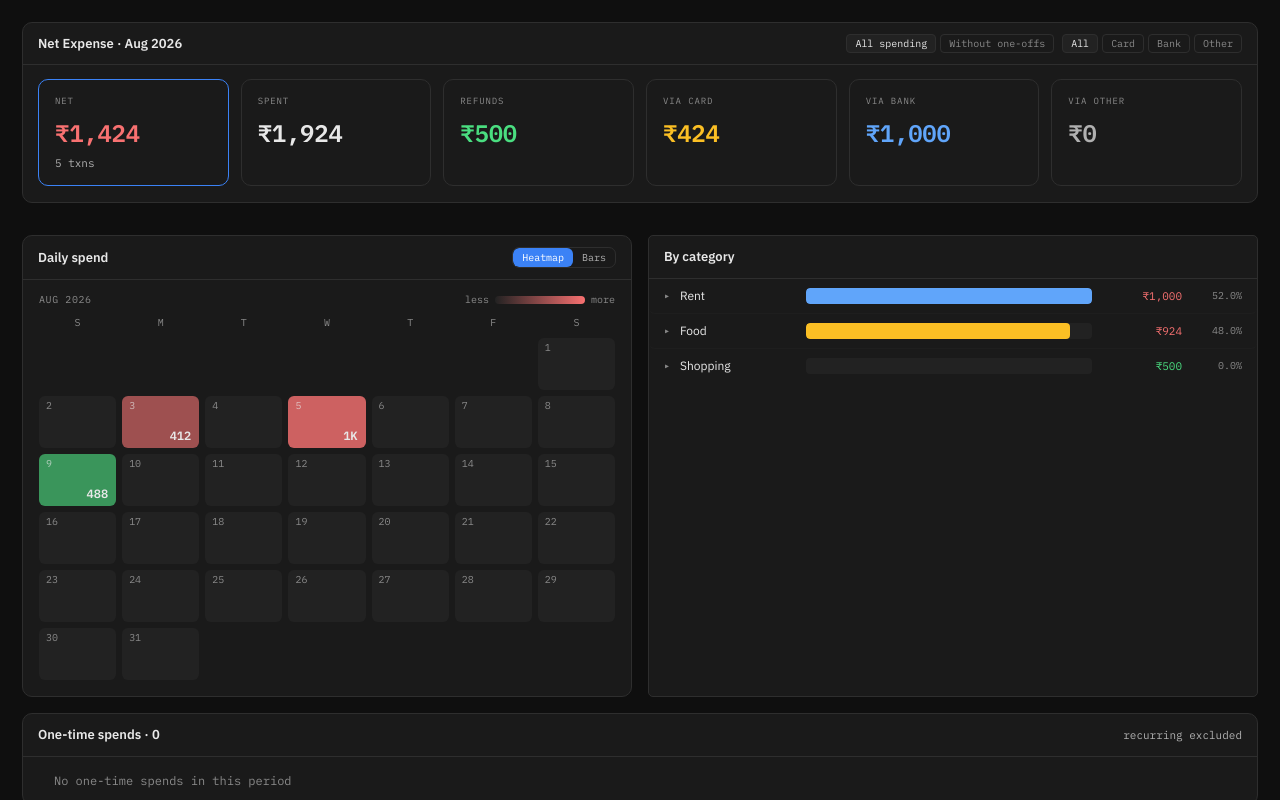
ExpenseOverview › the category hover lists top merchants, not just the name
Expected: the text "Food" is shown, [680,323,707,338]
Hover over the text "Food" at (685, 330), box [664,323,707,338]
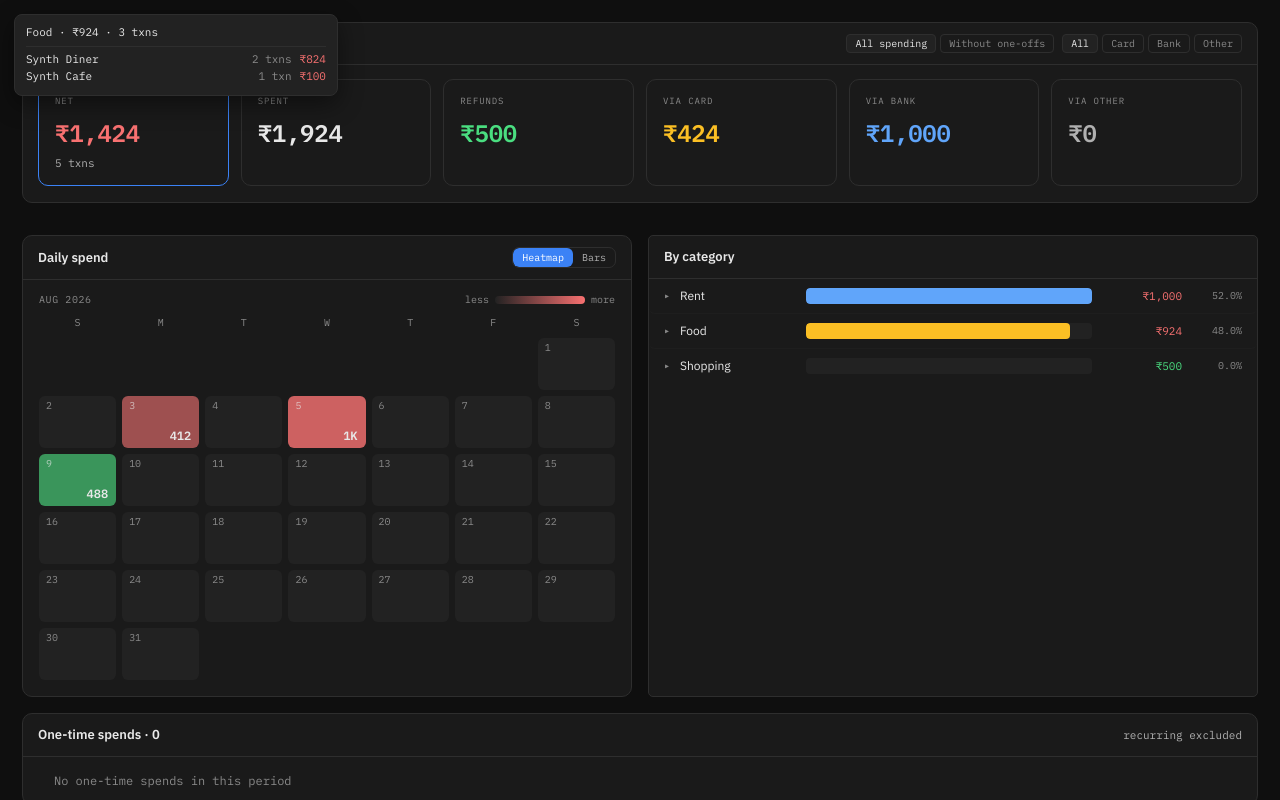
Expected: the element with class "tip" is shown, [14,14,338,96]
Expected: the text "Food · ₹924 · 3 txns" is shown, [26,25,158,39]
Expected: the text "Synth Diner" is shown, [26,52,99,66]
